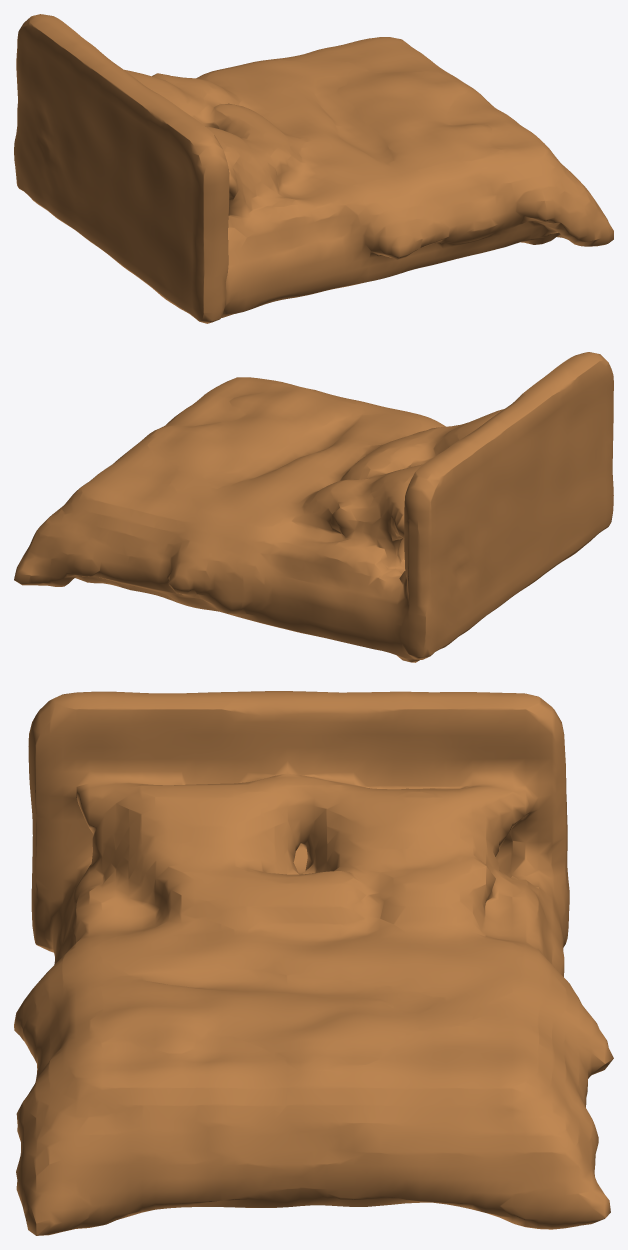
The model's file is bed_1_1.obj.
The picture shows the model from 3 angles, top to bottom: view 1: azimuth 30°, elevation 25°; view 2: azimuth 150°, elevation 25°; view 3: azimuth 270°, elevation 25°; orthographic projection. The views are drawn at different scales.
Bounding box in the file's own units: 0.7898 × 0.3597 × 0.709.
